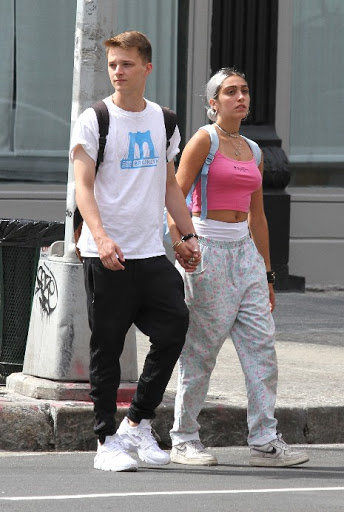Person: (67, 29, 207, 486), (166, 66, 314, 471)
